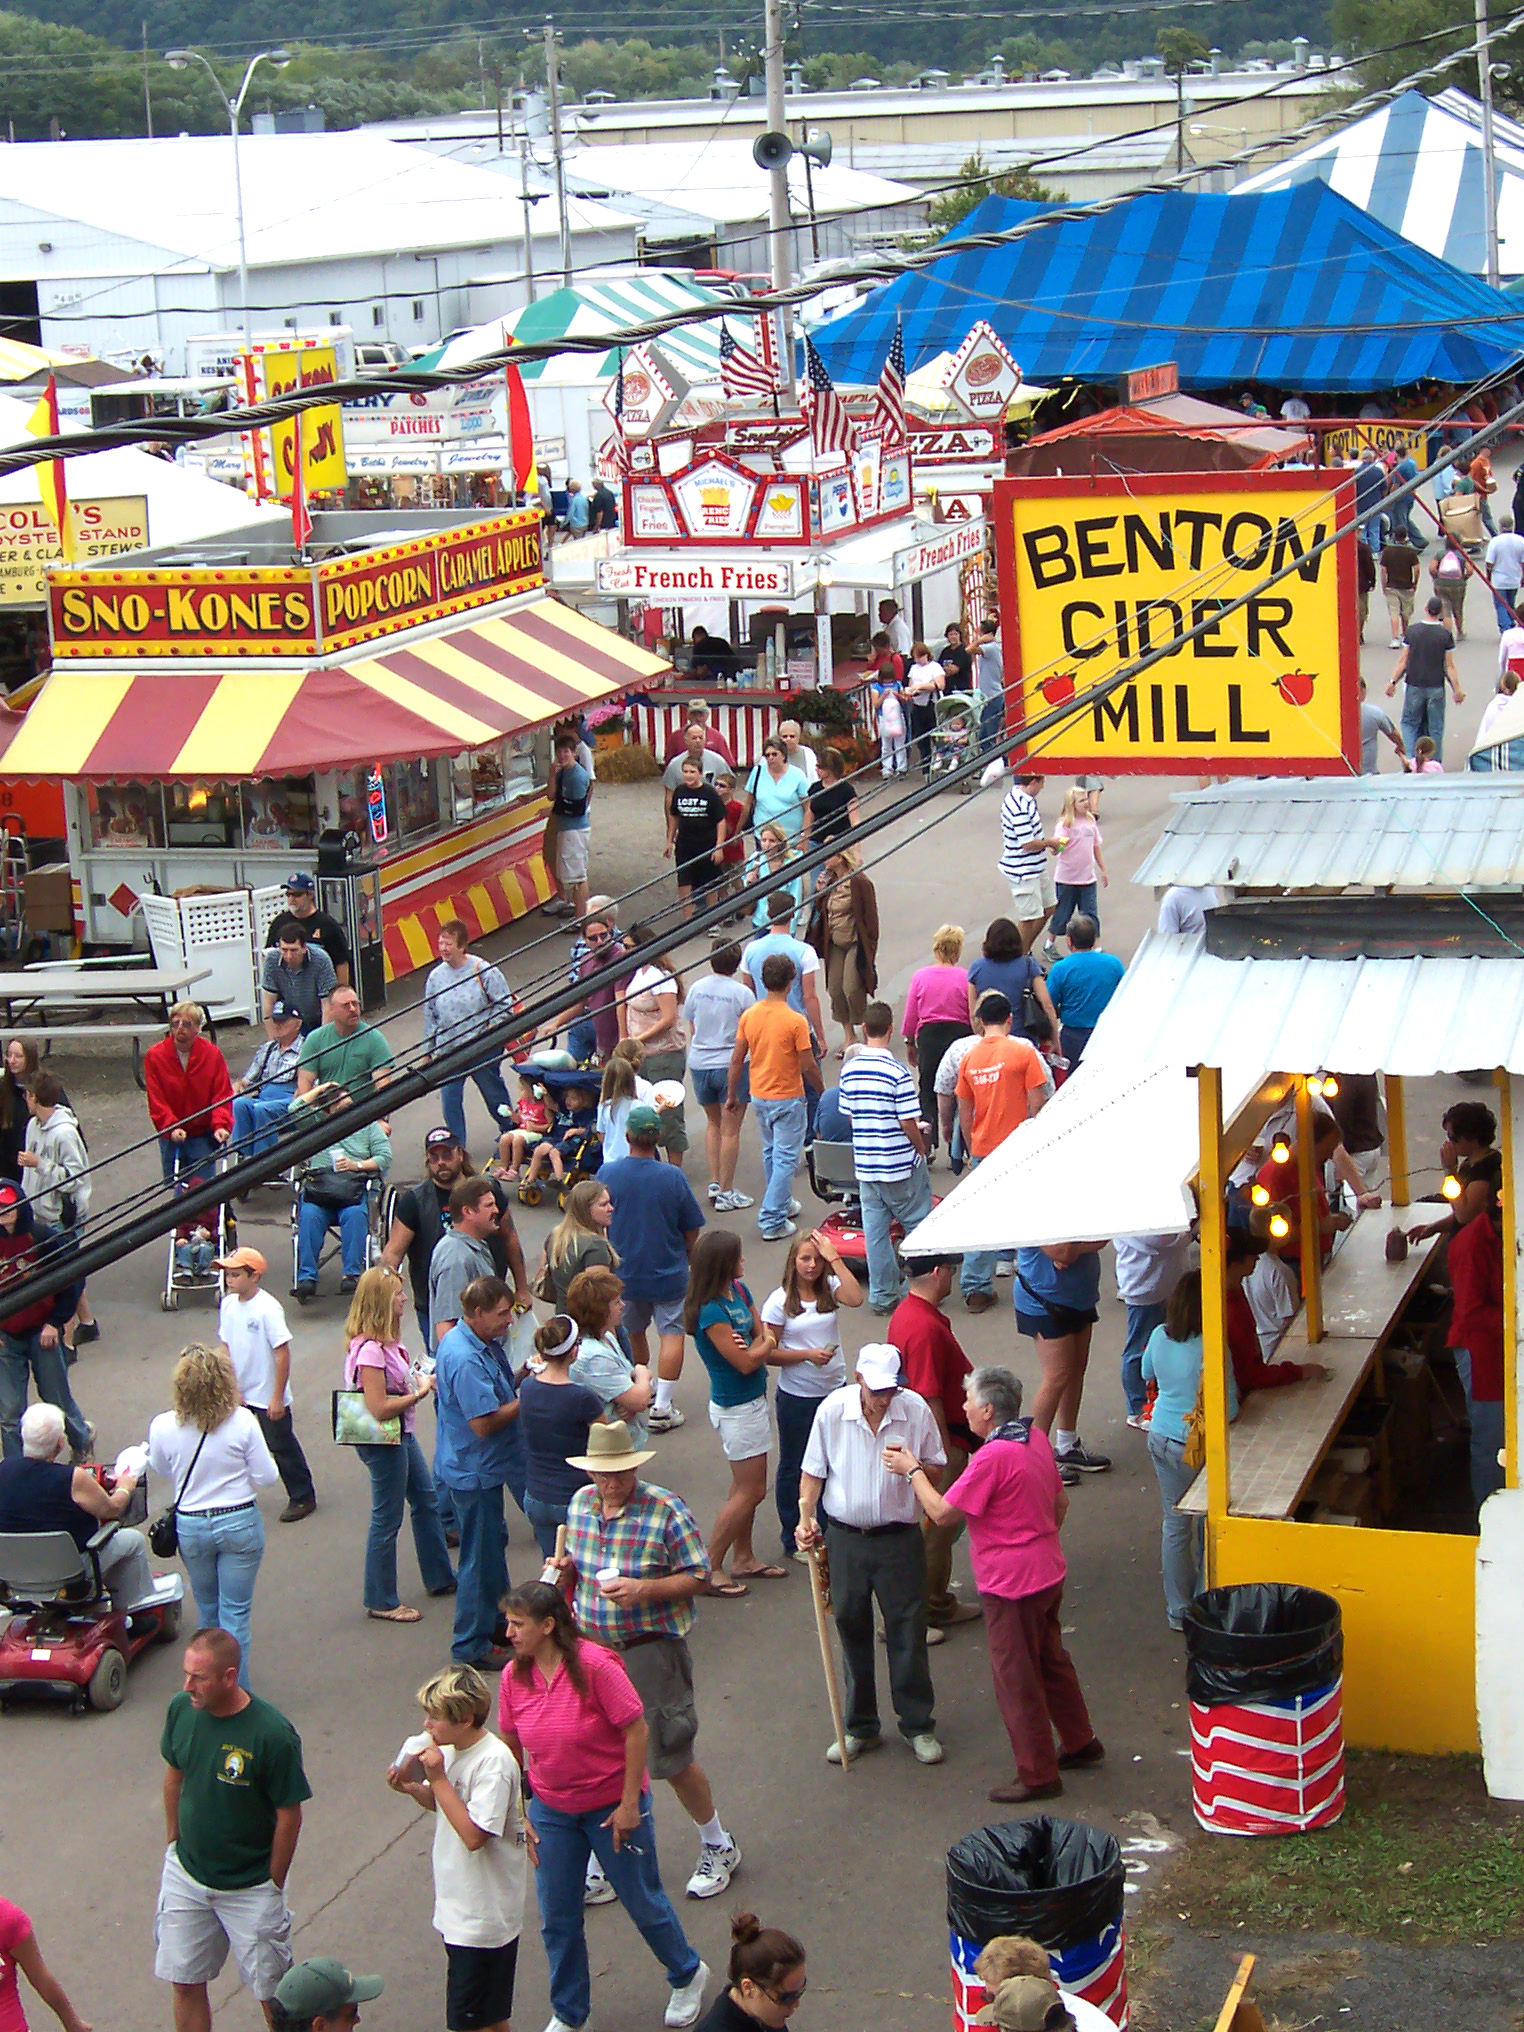person: (533, 1429, 762, 1900), (884, 1372, 1119, 1804), (499, 1592, 717, 2032), (143, 1623, 315, 2032), (792, 1349, 950, 1762), (380, 1662, 535, 2032), (5, 1396, 182, 1672), (141, 1347, 282, 1694), (882, 1239, 982, 1647), (348, 1268, 458, 1623), (811, 1000, 931, 1321), (188, 1247, 323, 1517), (680, 1229, 776, 1604), (427, 1278, 519, 1672), (1139, 1270, 1235, 1627), (760, 1229, 858, 1555), (401, 921, 537, 1145), (1, 1186, 107, 1474), (1001, 1229, 1111, 1484), (152, 1002, 243, 1311), (376, 1135, 527, 1290), (288, 1084, 395, 1300), (23, 1078, 101, 1368), (680, 941, 760, 1219), (746, 951, 823, 1239), (954, 996, 1070, 1186), (552, 1255, 674, 1427), (1441, 1198, 1515, 1457), (525, 1317, 607, 1547), (809, 833, 888, 1053), (619, 931, 690, 1172), (713, 1908, 843, 2032), (231, 996, 315, 1184), (539, 711, 611, 931), (537, 1178, 639, 1317), (1380, 602, 1472, 755), (1415, 1104, 1513, 1249), (297, 992, 409, 1119), (911, 913, 978, 1113), (417, 1188, 497, 1335), (264, 860, 354, 990), (976, 921, 1056, 1060), (272, 1951, 401, 2032), (990, 774, 1050, 933), (650, 723, 733, 839), (1048, 778, 1121, 911), (672, 755, 725, 931), (1043, 908, 1119, 1029), (1, 1025, 52, 1200), (737, 827, 819, 929), (260, 925, 335, 1031), (743, 745, 815, 845), (1376, 527, 1433, 647), (903, 637, 952, 755), (805, 749, 868, 837), (1482, 515, 1524, 637), (874, 666, 919, 768), (1429, 535, 1476, 627)
